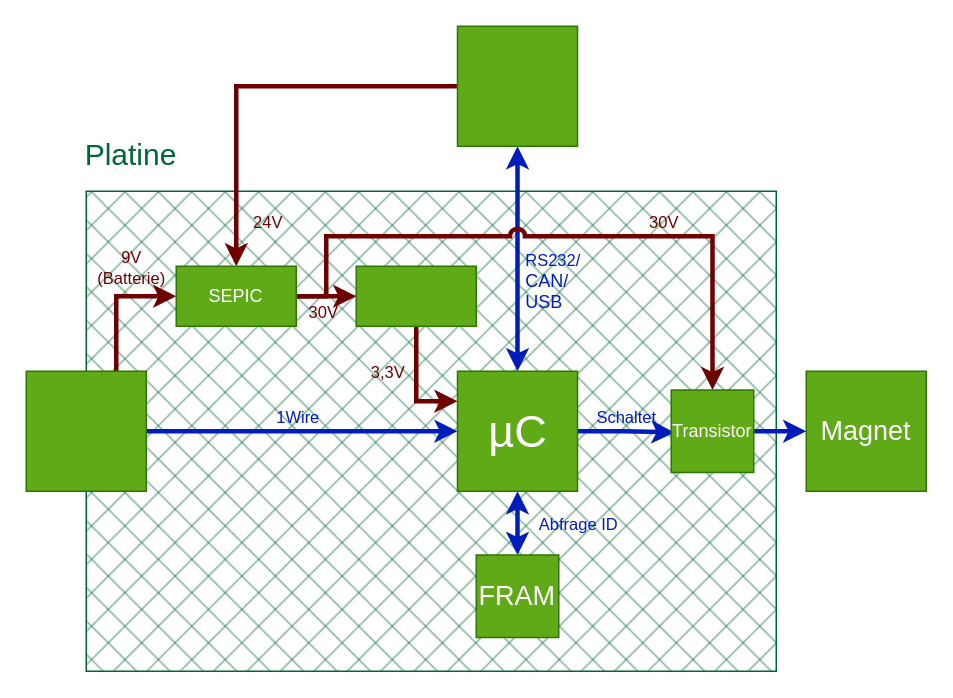
Image size: 953x698. Some labels were removed from this diagram. The shapes that lost their labels are listed below. From the top down, each one's centre as x and y in pixels, then its label:
the point at 517,85: Automat
the point at 415,295: BUCK
the point at 85,430: iButton reader
